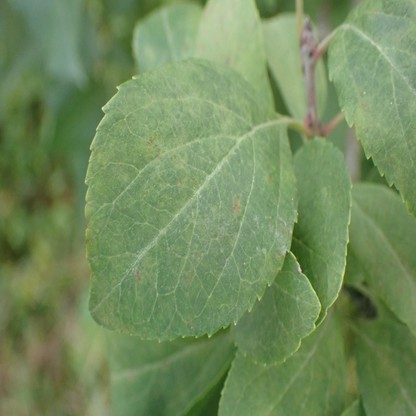scab: (86, 61, 294, 337), (334, 0, 416, 212)
